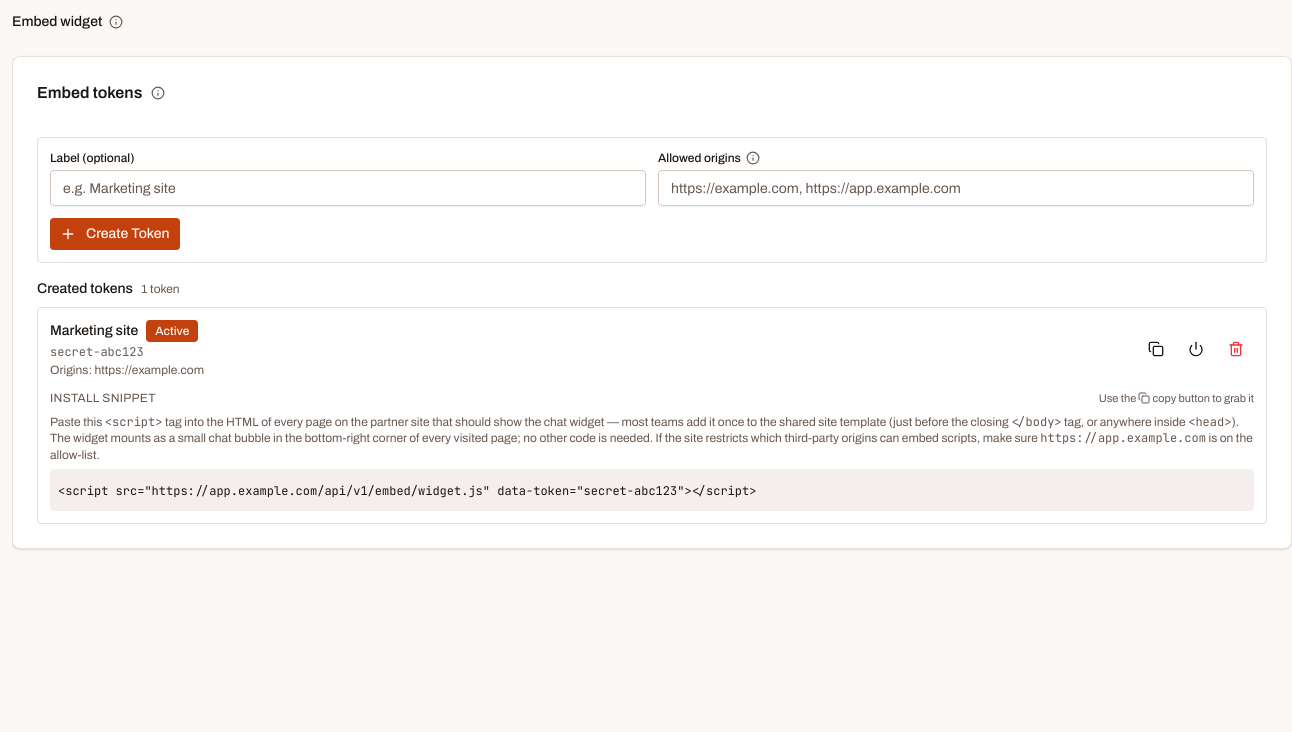
Test: EmbedConfigPanel › shows error when delete fails
Expected: the text "Marketing site" is shown, [50, 321, 138, 341]
Click the button named "Delete Marketing site" at [1236, 349], box [1218, 333, 1254, 365]
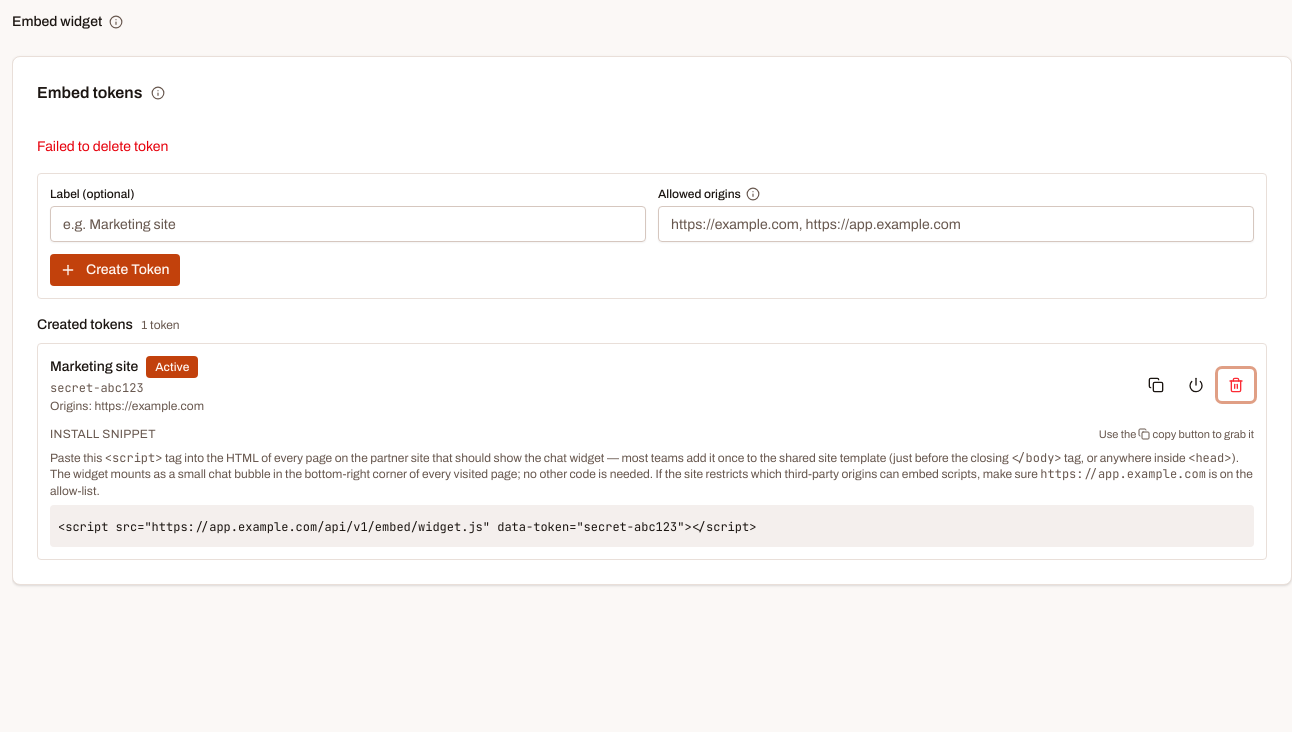
Result: the text "Failed to delete token" is shown at [37, 139, 168, 154]
